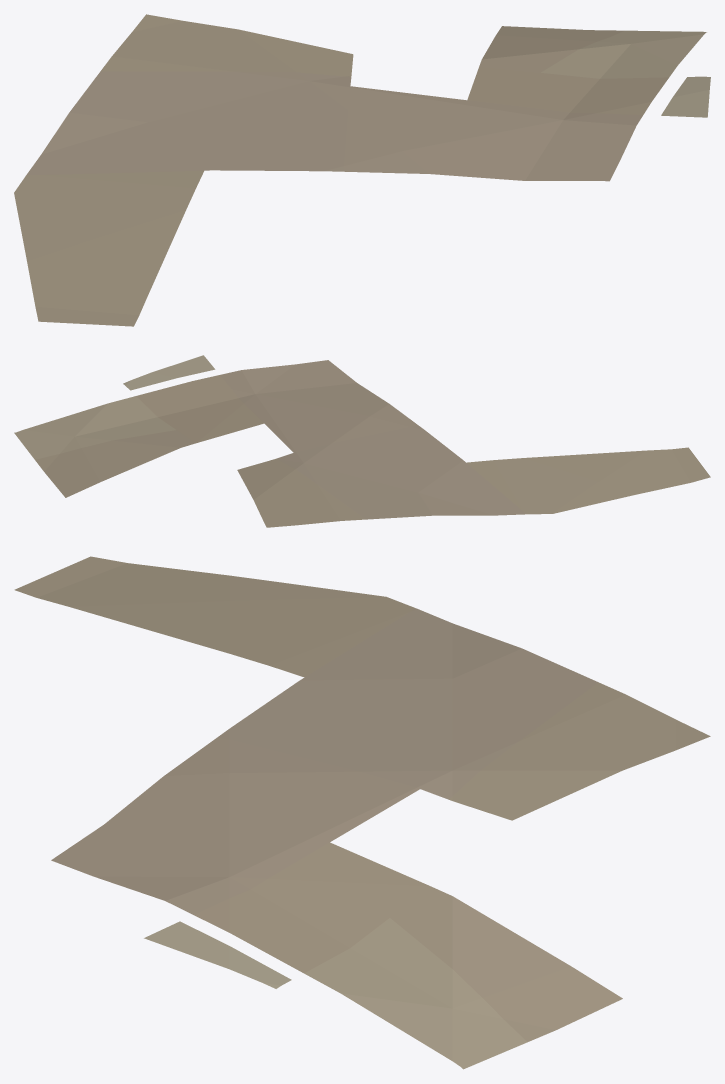
The model's file is farm_-7_5_soil.glb.
3 renders of one model, top to bottom at view 1: azimuth 30°, elevation 25°; view 2: azimuth 150°, elevation 25°; view 3: azimuth 270°, elevation 25°, orthographic. The views are drawn at different scales.
Parts seen in each view (by area): view 1: geometry_0; view 2: geometry_0; view 3: geometry_0.
Boxes of the visible parts, x1=… form: geometry_0: x1=14, y1=14, x2=710, y2=326; geometry_0: x1=14, y1=355, x2=710, y2=527; geometry_0: x1=14, y1=556, x2=710, y2=1069.
Size of the model in its own units: 410 by 30.2 by 250.
